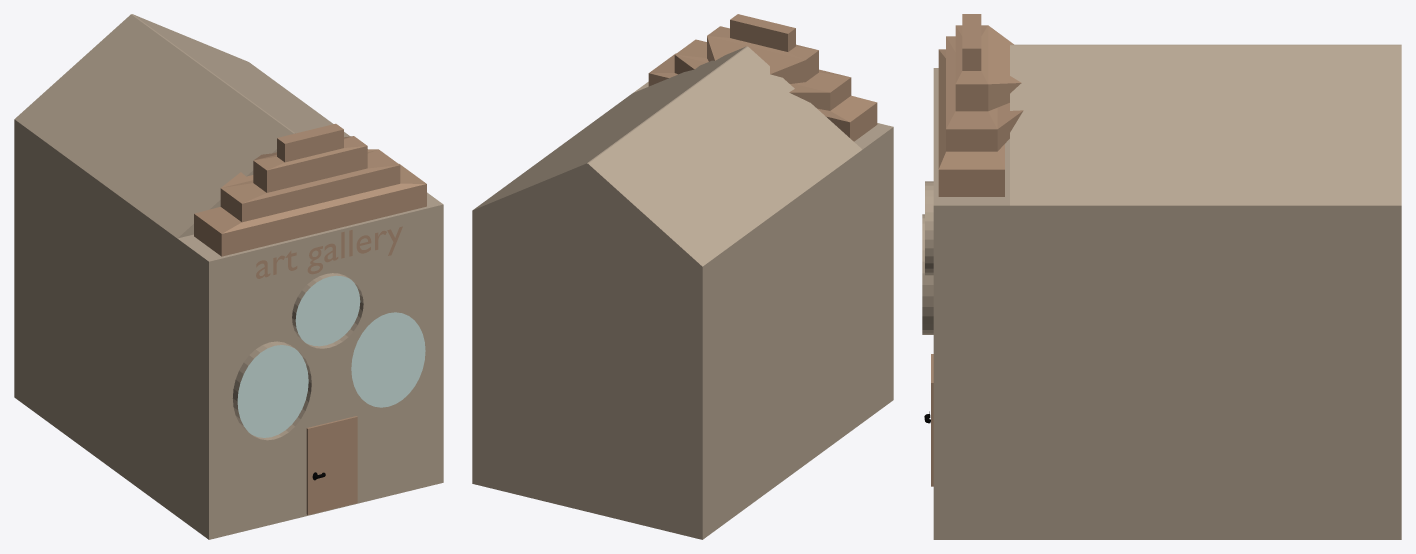
File: artgallery 1.fbx
3 views of the same model, side by side, from view 1: azimuth 30°, elevation 25°; view 2: azimuth 150°, elevation 25°; view 3: azimuth 270°, elevation 25° (orthographic). The views are drawn at different scales.
Parts seen in each view (by area): view 1: Cube, Cube.001, Cylinder.005, Cylinder.004, Cube.002, Cylinder.001, Text, Cylinder.002, Cylinder; view 2: Cube, Cube.001; view 3: Cube, Cube.001, Cylinder.002, Cylinder.
Boxes of the visible parts, x1,y1,x2,y2 form: Cube: [14, 14, 443, 539]; Cube.001: [194, 123, 426, 256]; Cylinder.005: [351, 312, 425, 407]; Cylinder.004: [237, 345, 308, 437]; Cube.002: [306, 416, 357, 514]; Cylinder.001: [295, 275, 360, 346]; Text: [256, 226, 402, 278]; Cylinder.002: [232, 341, 311, 440]; Cylinder: [292, 273, 363, 348]; Cube: [472, 46, 893, 539]; Cube.001: [648, 14, 877, 141]; Cube: [933, 44, 1401, 539]; Cube.001: [938, 14, 1023, 196]; Cylinder.002: [922, 214, 933, 334]; Cylinder: [925, 181, 933, 275].
Bounding box in the file's own units: 430 × 641 × 633.
